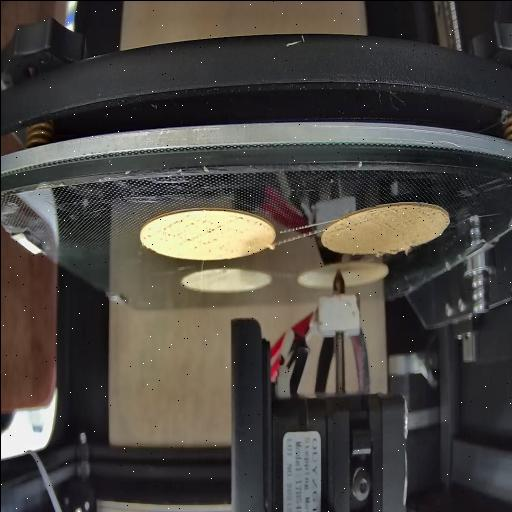under_extrusion: (156, 218, 222, 254), (379, 206, 436, 236), (235, 210, 264, 232), (332, 215, 364, 232)
